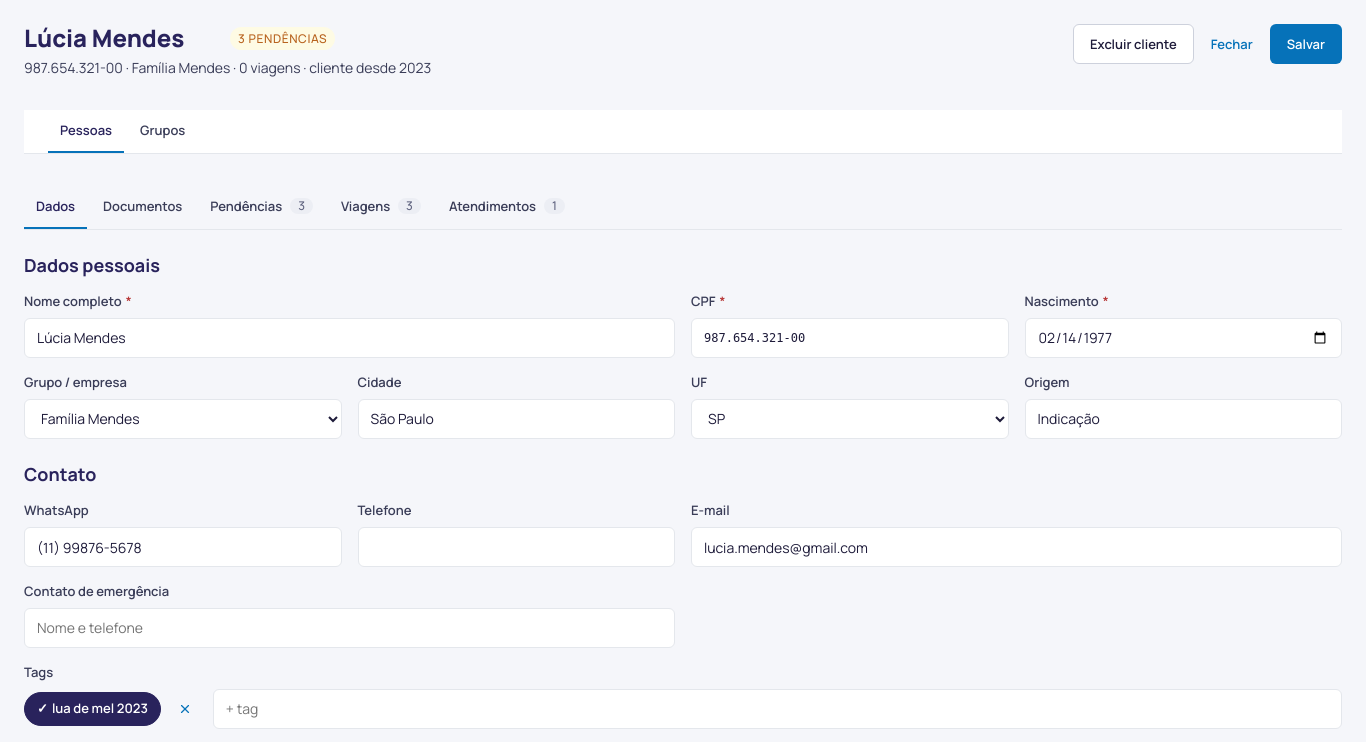
Test: Excluir cliente com vínculos mostra a mensagem do back e fecha o diálogo
Expected: the field showing "São Paulo" is shown, [358, 399, 675, 439]
Click the button "Excluir cliente".
click(1133, 44)  # box [1073, 24, 1194, 64]
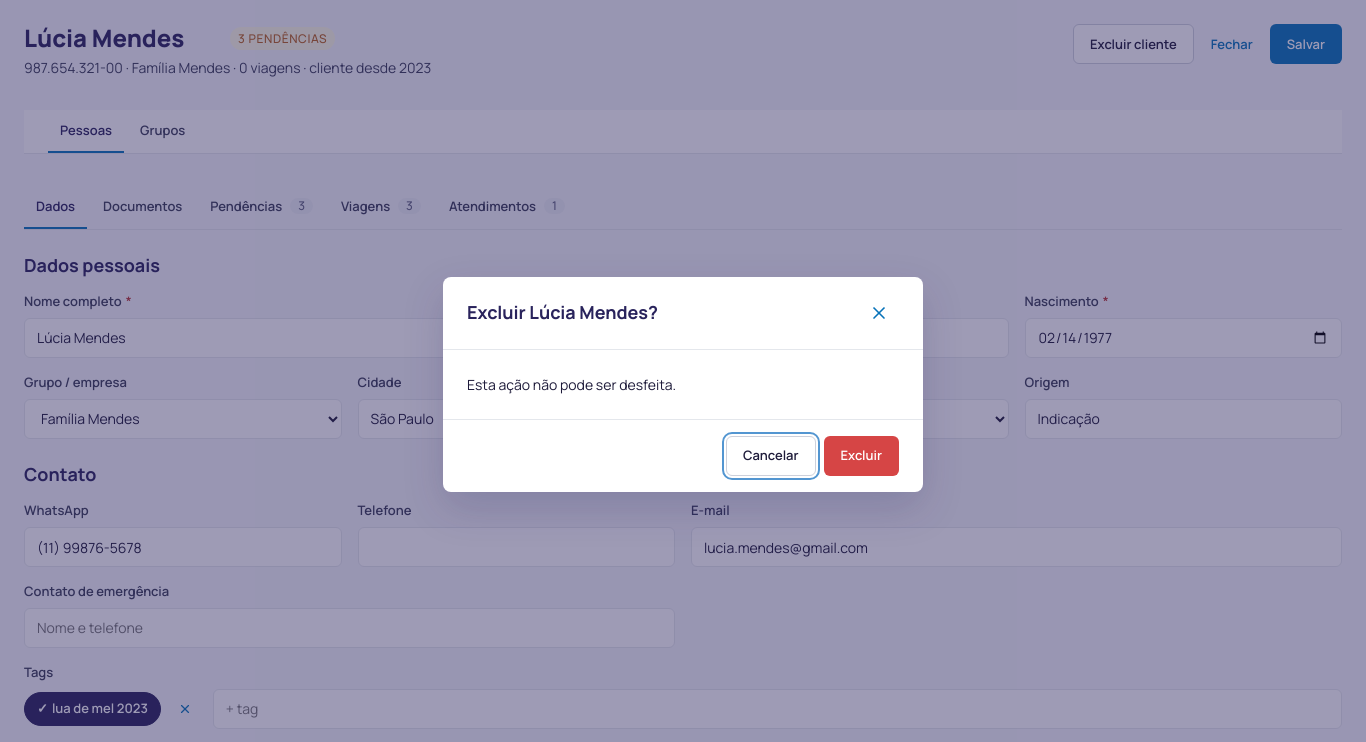
Click the button "Excluir".
click(861, 456)  # box [824, 436, 899, 476]
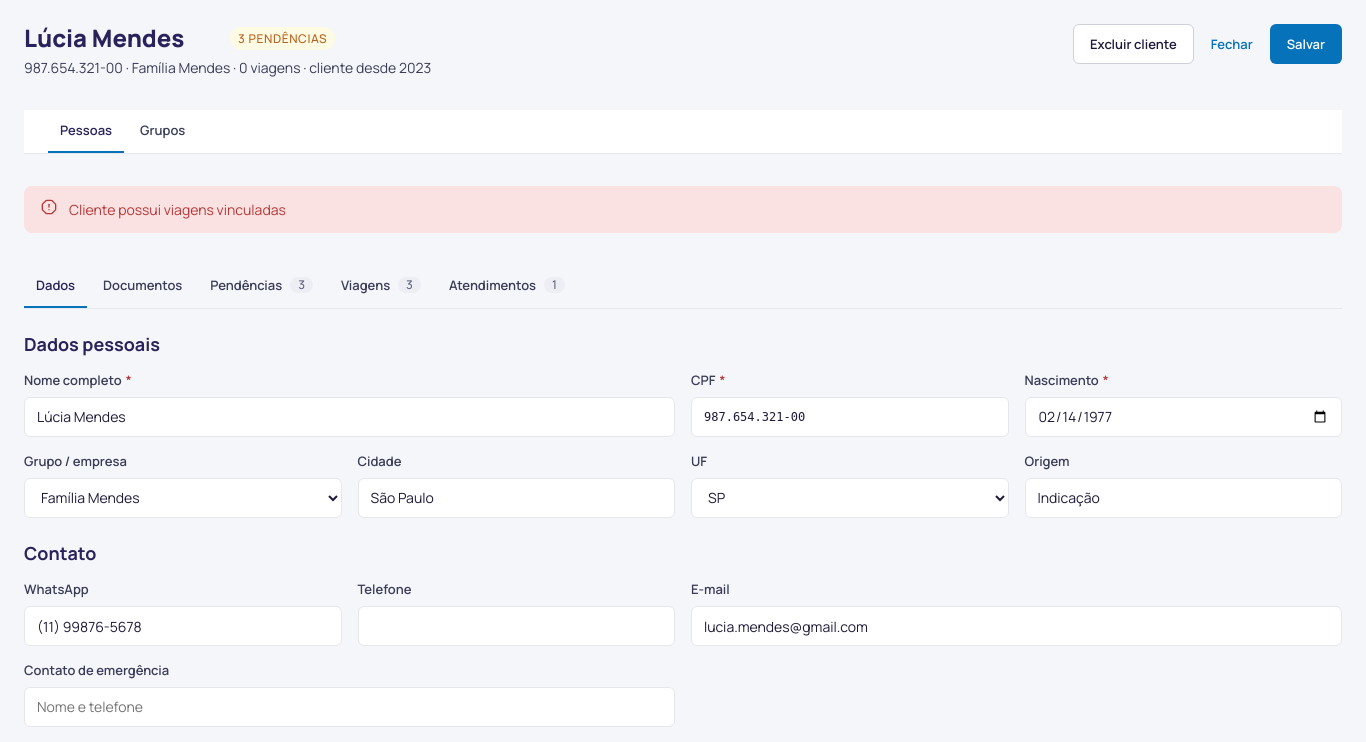
Now the dialog is gone
Now the text "Cliente possui viagens vinculadas" is shown, box [69, 200, 286, 219]
